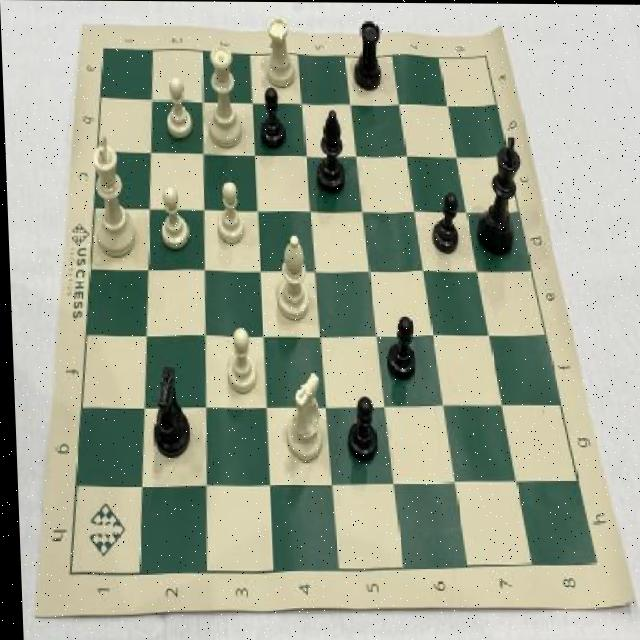bishop: (309, 103, 349, 197)
black-bishop: (470, 132, 526, 262)
black-knight: (380, 308, 416, 386), (341, 391, 378, 466), (428, 189, 461, 261), (255, 83, 289, 151)
black-queen: (348, 13, 387, 97)
black-rook: (270, 226, 311, 326)
white-bishop: (83, 126, 136, 260)
white-king: (278, 366, 327, 466), (144, 361, 192, 463)
white-knight: (220, 318, 259, 398), (153, 184, 194, 255), (211, 177, 249, 251), (161, 73, 196, 144)
white-pawn: (204, 40, 245, 153)
white-queen: (260, 11, 298, 93)
